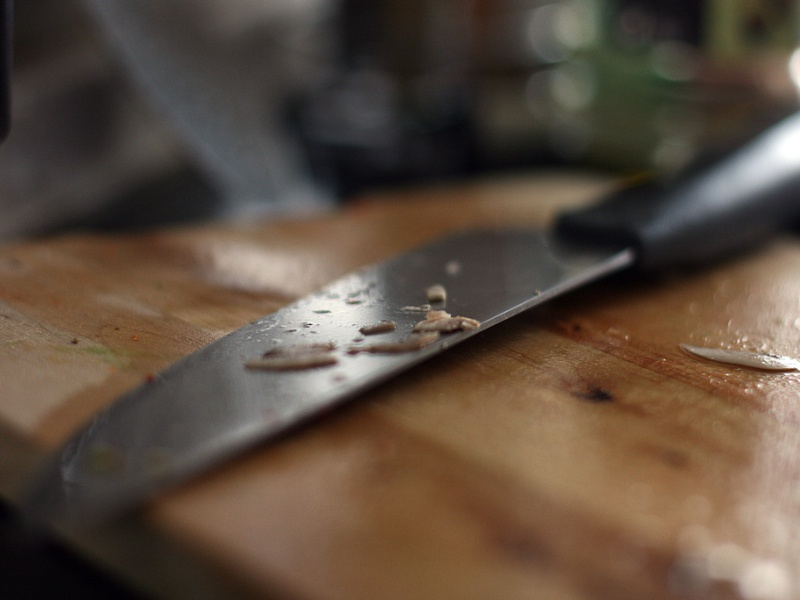knife: (13, 89, 800, 554)
